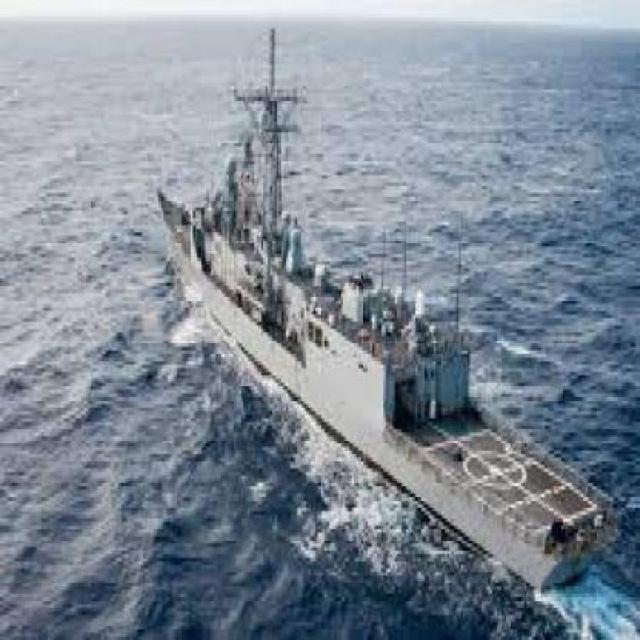warship2: (106, 8, 621, 602)
